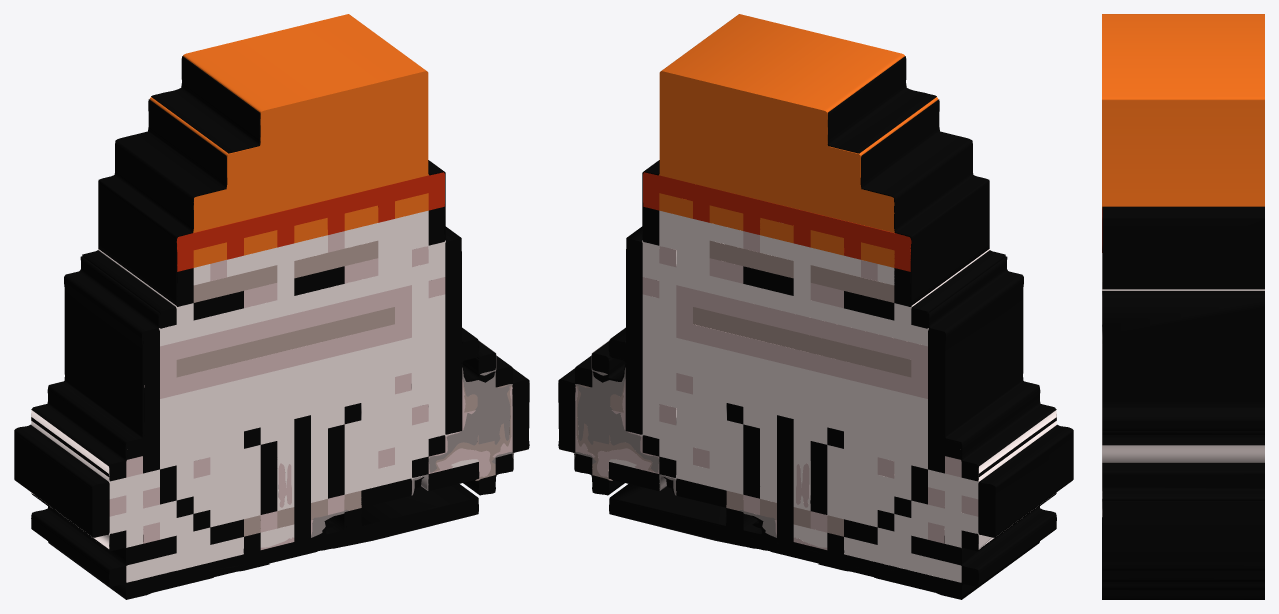
File: Toadz_4923.glb
3 views of the same model, side by side, from view 1: azimuth 30°, elevation 25°; view 2: azimuth 150°, elevation 25°; view 3: azimuth 270°, elevation 25° (orthographic). The views are drawn at different scales.
Visible parts, largest first — view 1: Curve; view 2: Curve; view 3: Curve.
Boxes of the visible parts, x1,y1,x2,y2 form: Curve: [14, 14, 529, 599]; Curve: [558, 14, 1073, 599]; Curve: [1102, 14, 1264, 599].
Size of the model in its own units: 3.24 by 3.23 by 1.
